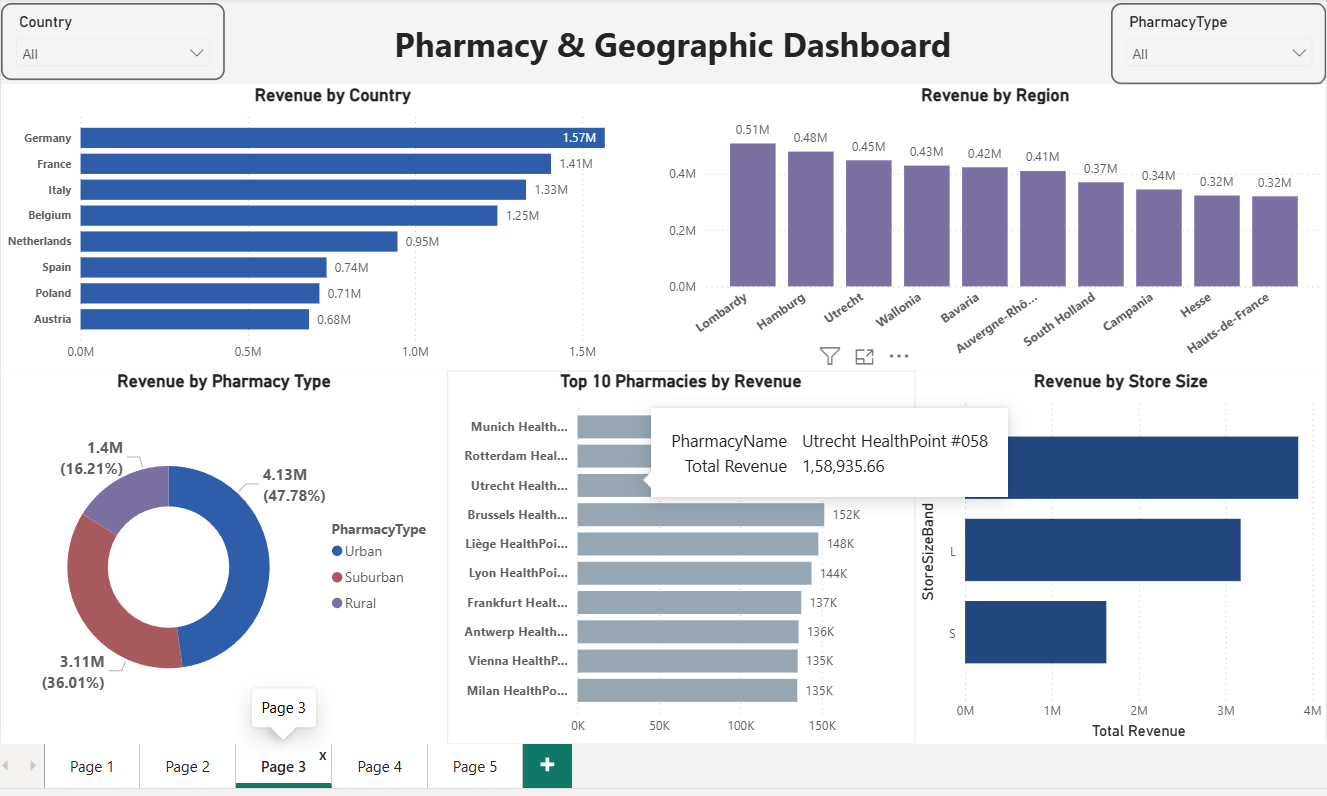

The dashboard page shown, as its layout file describes it:
{"tool":"powerbi","page":{"name":"Page 3","canvas":[1280,720],"ordinal":2},"visuals":[{"type":"textbox","box":[216,0,865,83.2],"z":0},{"type":"clusteredBarChart","title":"Revenue by Country","fields":{"Category":["DimPharmacy_Final.Country"],"Y":["Measures_Table.Total Revenue"]},"box":[0,83.2,640.6,276.3],"z":1000},{"type":"clusteredColumnChart","title":"Revenue by Region","fields":{"Category":["DimPharmacy_Final.Region"],"Y":["Measures_Table.Total Revenue"]},"box":[639.4,83.2,640.6,276.3],"z":2000},{"type":"donutChart","title":"Revenue by Pharmacy Type","fields":{"Category":["DimPharmacy_Final.PharmacyType"],"Y":["Measures_Table.Total Revenue"]},"box":[0,359.5,430.7,360.7],"z":3000},{"type":"clusteredBarChart","title":"Revenue by Store Size","fields":{"Category":["DimPharmacy_Final.StoreSizeBand"],"Y":["Measures_Table.Total Revenue"]},"box":[881.9,359.5,398.1,360.7],"z":4000},{"type":"clusteredBarChart","title":"Top 10 Pharmacies by Revenue","fields":{"Category":["DimPharmacy_Final.PharmacyName"],"Y":["Measures_Table.Total Revenue"]},"box":[430.7,359.5,451.2,360.7],"z":5000},{"type":"slicer","fields":{"Values":["DimPharmacy_Final.Country"]},"box":[0,4.8,216,74.8],"z":6000},{"type":"slicer","fields":{"Values":["DimPharmacy_Final.PharmacyType"]},"box":[1071.3,4.8,208.7,78.4],"z":7000}]}

Visuals, with their boxes on the page's 1280x720 design canvas (x1, y1, x2, y2). These are canvas units, not pixel positions in the 1327x796 screenshot, which may show the page scaled, cropped or inside an application window:
textbox: box(216, 0, 1081, 83)
"Revenue by Country" clusteredBarChart: box(0, 83, 641, 360)
"Revenue by Region" clusteredColumnChart: box(639, 83, 1280, 360)
"Revenue by Pharmacy Type" donutChart: box(0, 360, 431, 720)
"Revenue by Store Size" clusteredBarChart: box(882, 360, 1280, 720)
"Top 10 Pharmacies by Revenue" clusteredBarChart: box(431, 360, 882, 720)
slicer - DimPharmacy_Final.Country: box(0, 5, 216, 80)
slicer - DimPharmacy_Final.PharmacyType: box(1071, 5, 1280, 83)
